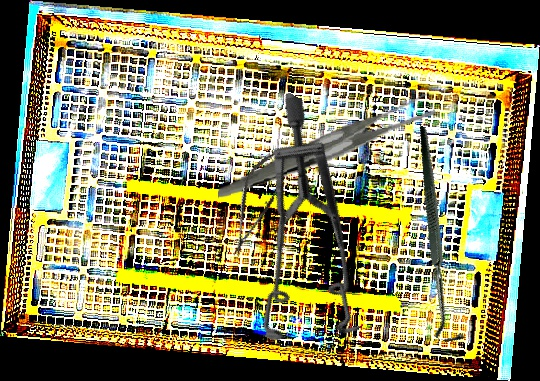Dressing Forceps: (210, 92, 442, 199)
Hook Surgical: (348, 125, 533, 348)
Micro Scissor: (220, 147, 290, 262)
Speculum: (178, 91, 443, 375)
